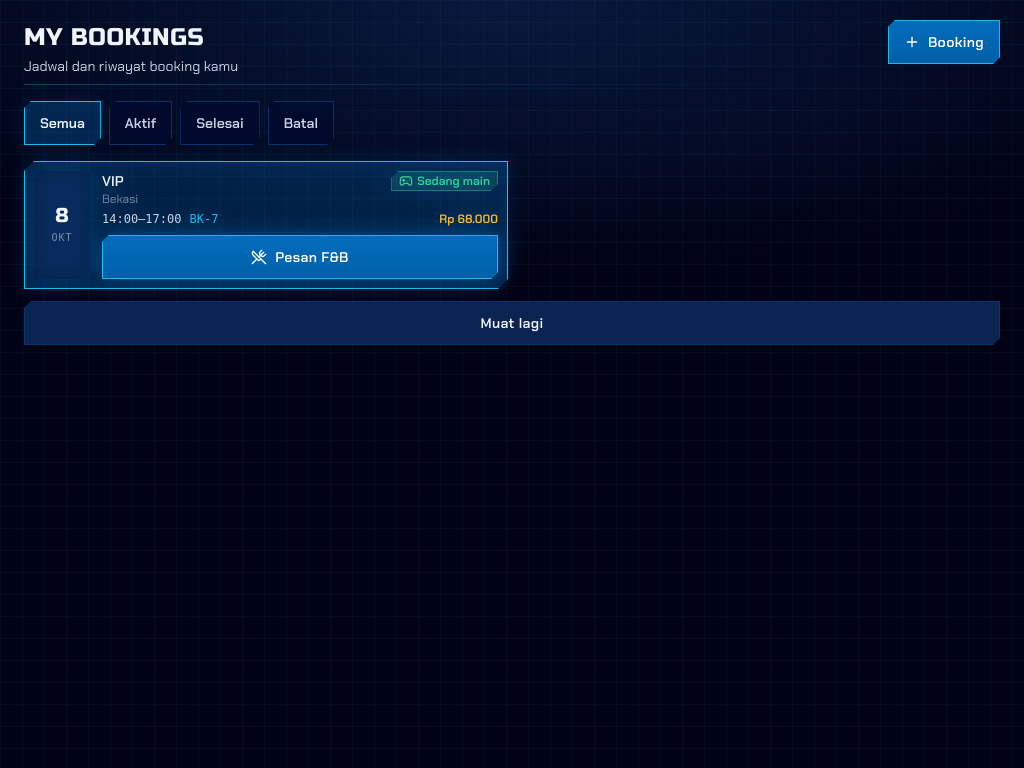
it: MyBookingsView › switching filter while "Muat lagi" is loading leaves the new filter's button usable
Click the button "Muat lagi" at point(512, 323), box [24, 301, 1000, 345]
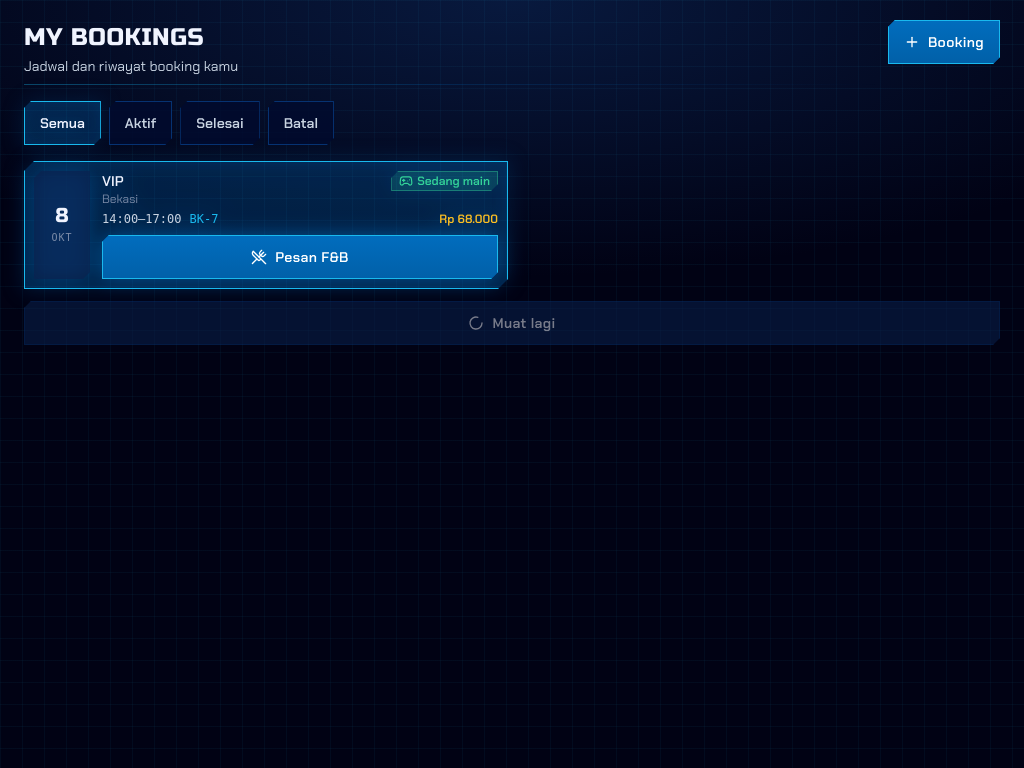
Click the button "Selesai" at point(220, 123), box [180, 101, 260, 145]
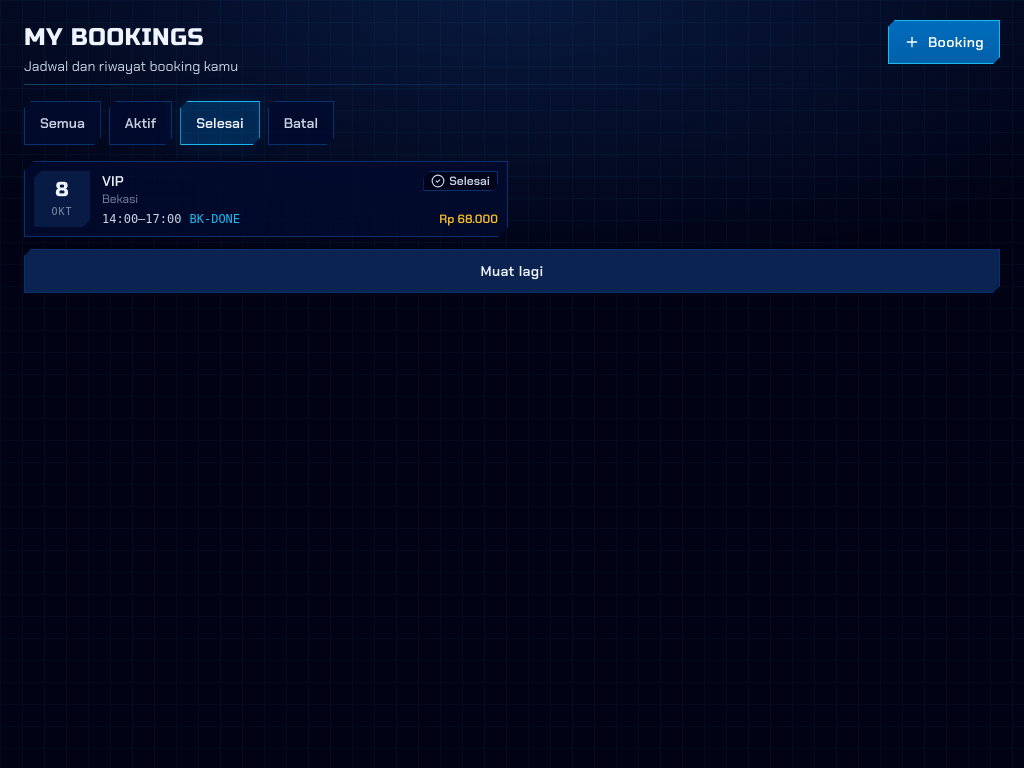
Now the button "Muat lagi" is enabled, box [24, 249, 1000, 293]
